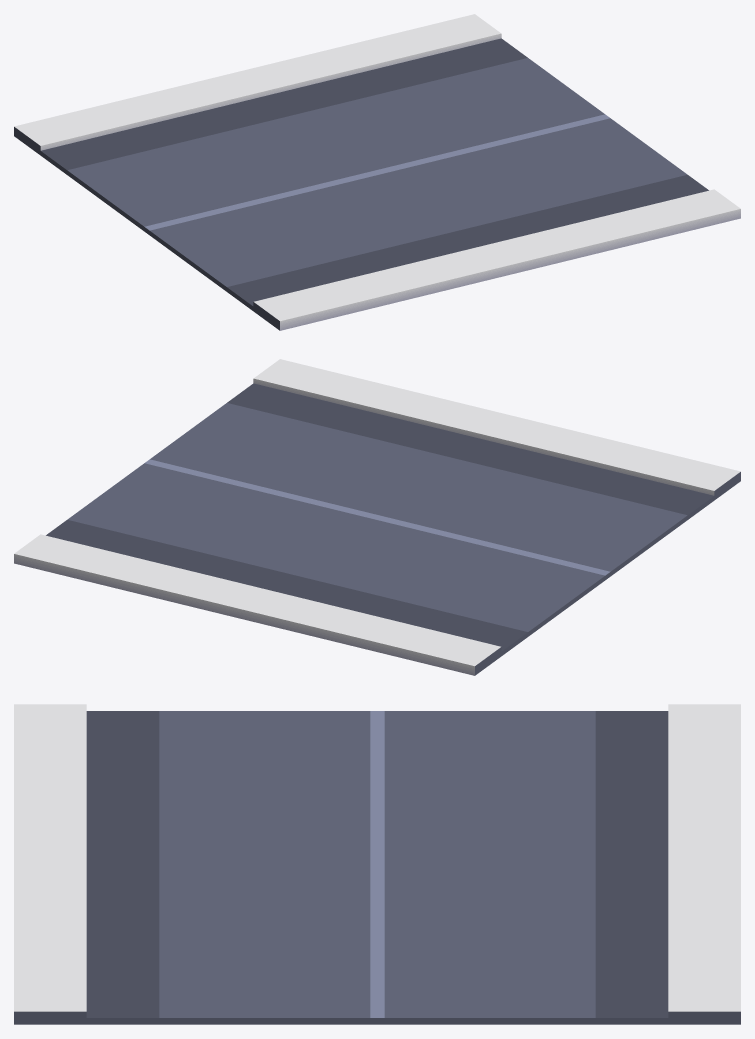
File: road-straight.glb
3 views of the same model, one above another, from view 1: azimuth 30°, elevation 25°; view 2: azimuth 150°, elevation 25°; view 3: azimuth 270°, elevation 25° (orthographic). The views are drawn at different scales.
Visible parts, largest first — view 1: road-straight; view 2: road-straight; view 3: road-straight.
Part boxes in pixels (left/top/right/bottom): road-straight: left=14, top=14, right=740, bottom=330; road-straight: left=14, top=359, right=740, bottom=675; road-straight: left=14, top=704, right=740, bottom=1024.
Size of the model in its own units: 1 by 0.02 by 1.
1 material, 1 textured.
